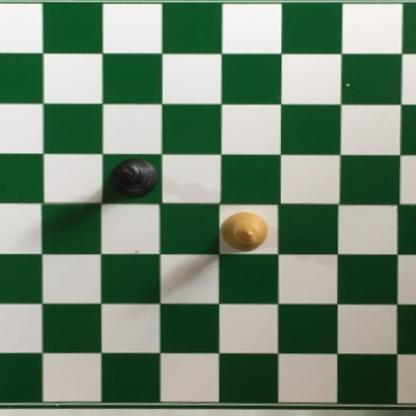black-king: (109, 154, 161, 199)
white-king: (220, 211, 270, 252)
